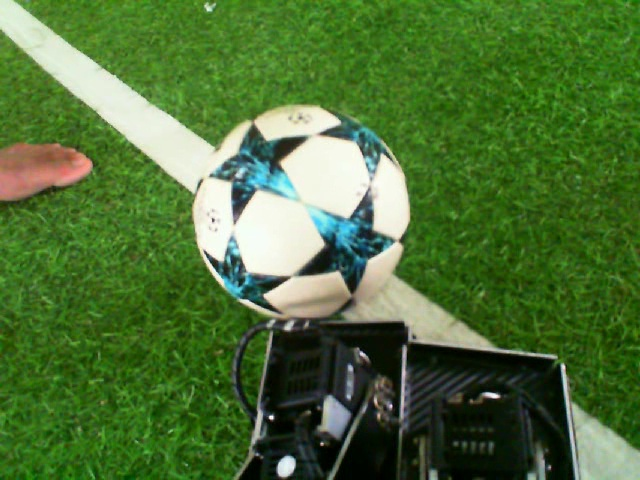ball: (188, 101, 412, 325)
